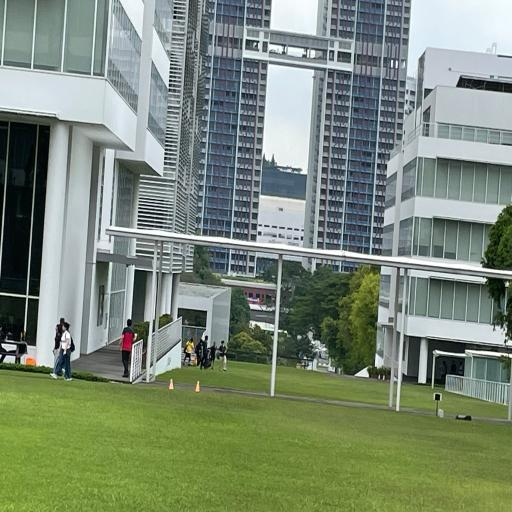person_left: (50, 321, 74, 380), (510, 191, 512, 203), (511, 177, 512, 184)
